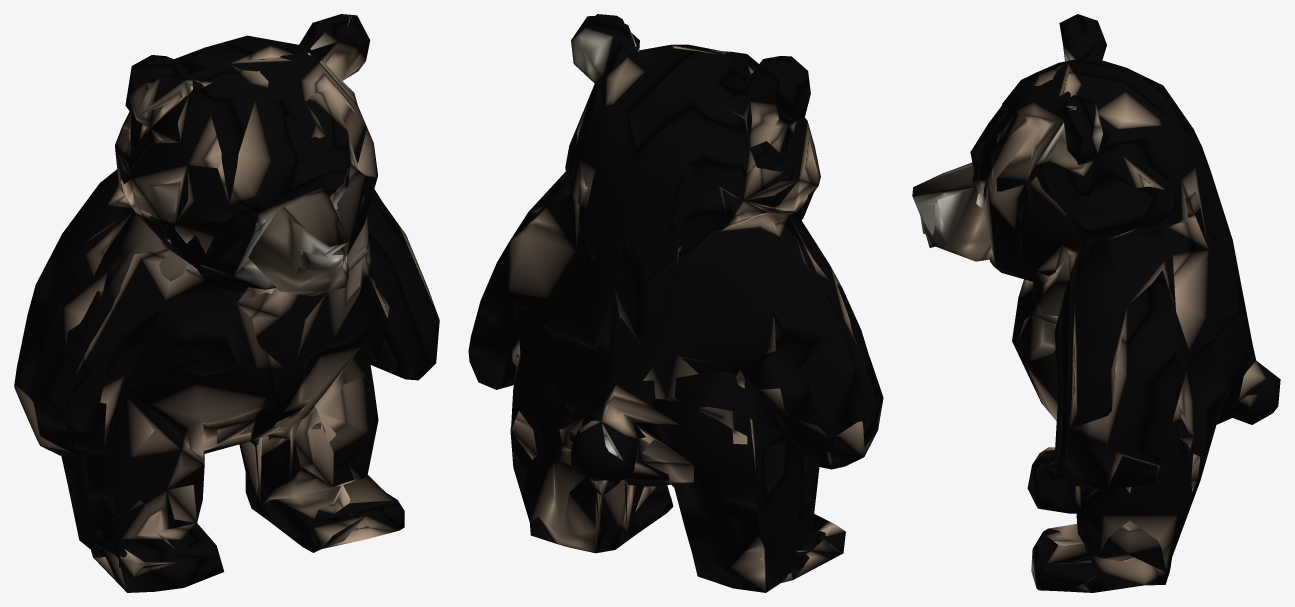
Rendered from gen3d-bear-lod0.glb.
The picture shows the model from 3 angles, left to right: view 1: azimuth 30°, elevation 25°; view 2: azimuth 150°, elevation 25°; view 3: azimuth 270°, elevation 25°; orthographic projection. The views are drawn at different scales.
Visible parts, largest first — view 1: part_0; view 2: part_0; view 3: part_0.
Boxes of the visible parts, box(x1,y1,x2,y2) form: part_0: box(14, 14, 439, 592); part_0: box(468, 14, 883, 592); part_0: box(912, 14, 1280, 592).
Bounding box in the file's own units: 0.8098 × 0.9959 × 0.7017.
